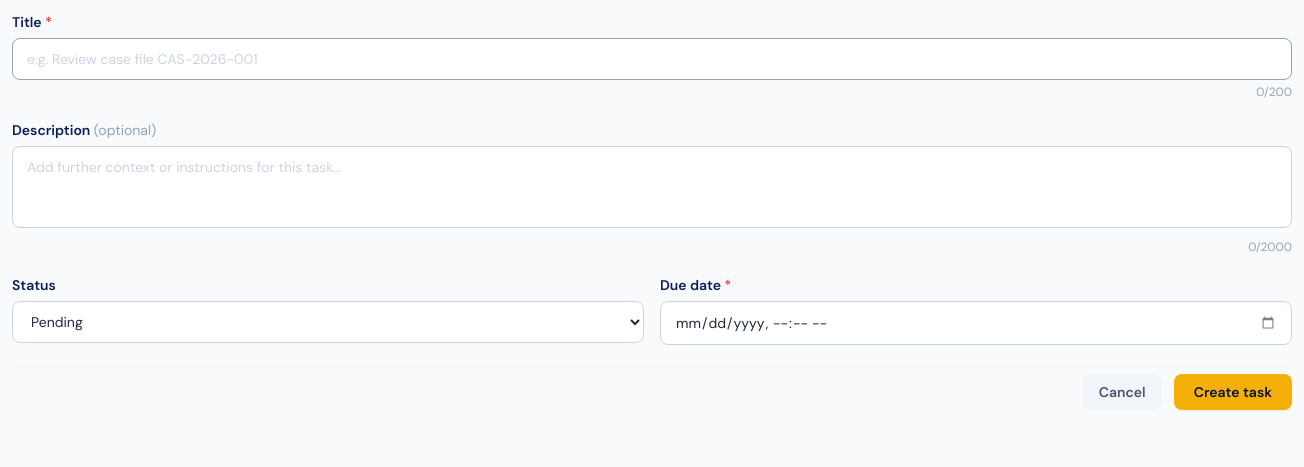
Scenario: <TaskForm /> › shows validation error when title is empty
Click the button "Create task". click: (1233,392)
box: [1174, 374, 1292, 410]
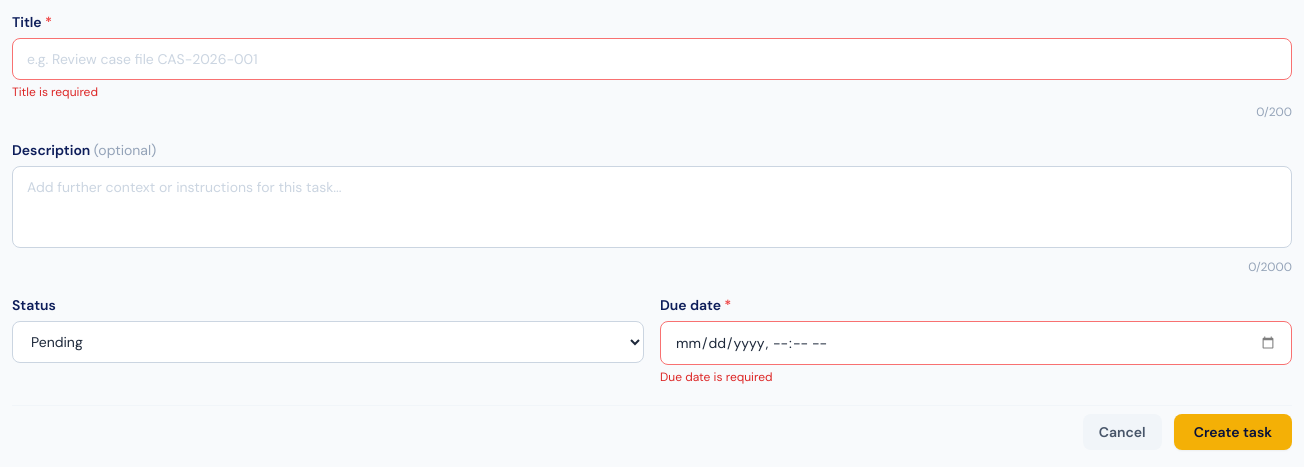
Result: the text "Title is required" is shown at [12, 84, 98, 100]
